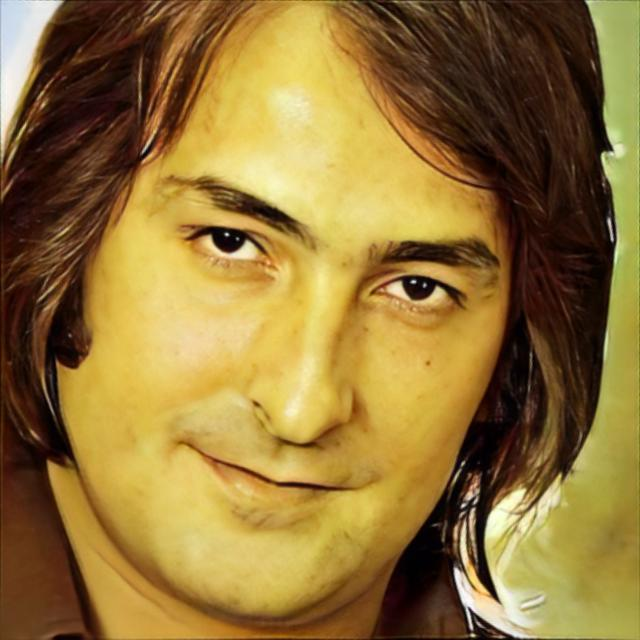content: (56, 0, 510, 621)
